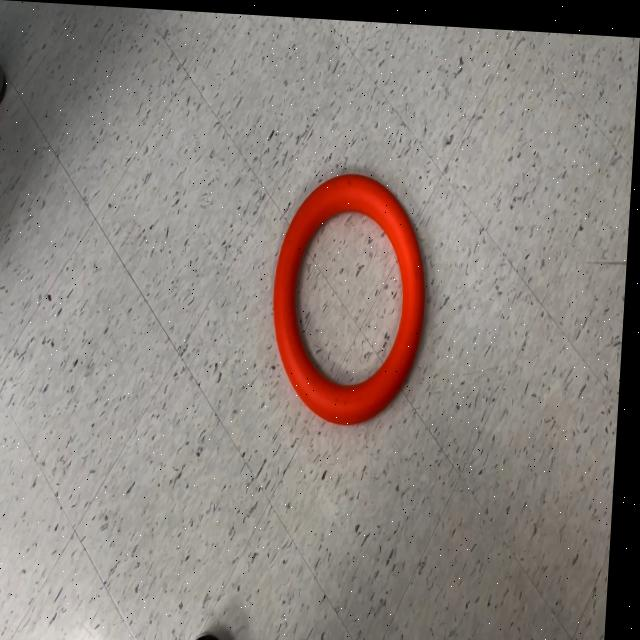note: (271, 166, 434, 424)
